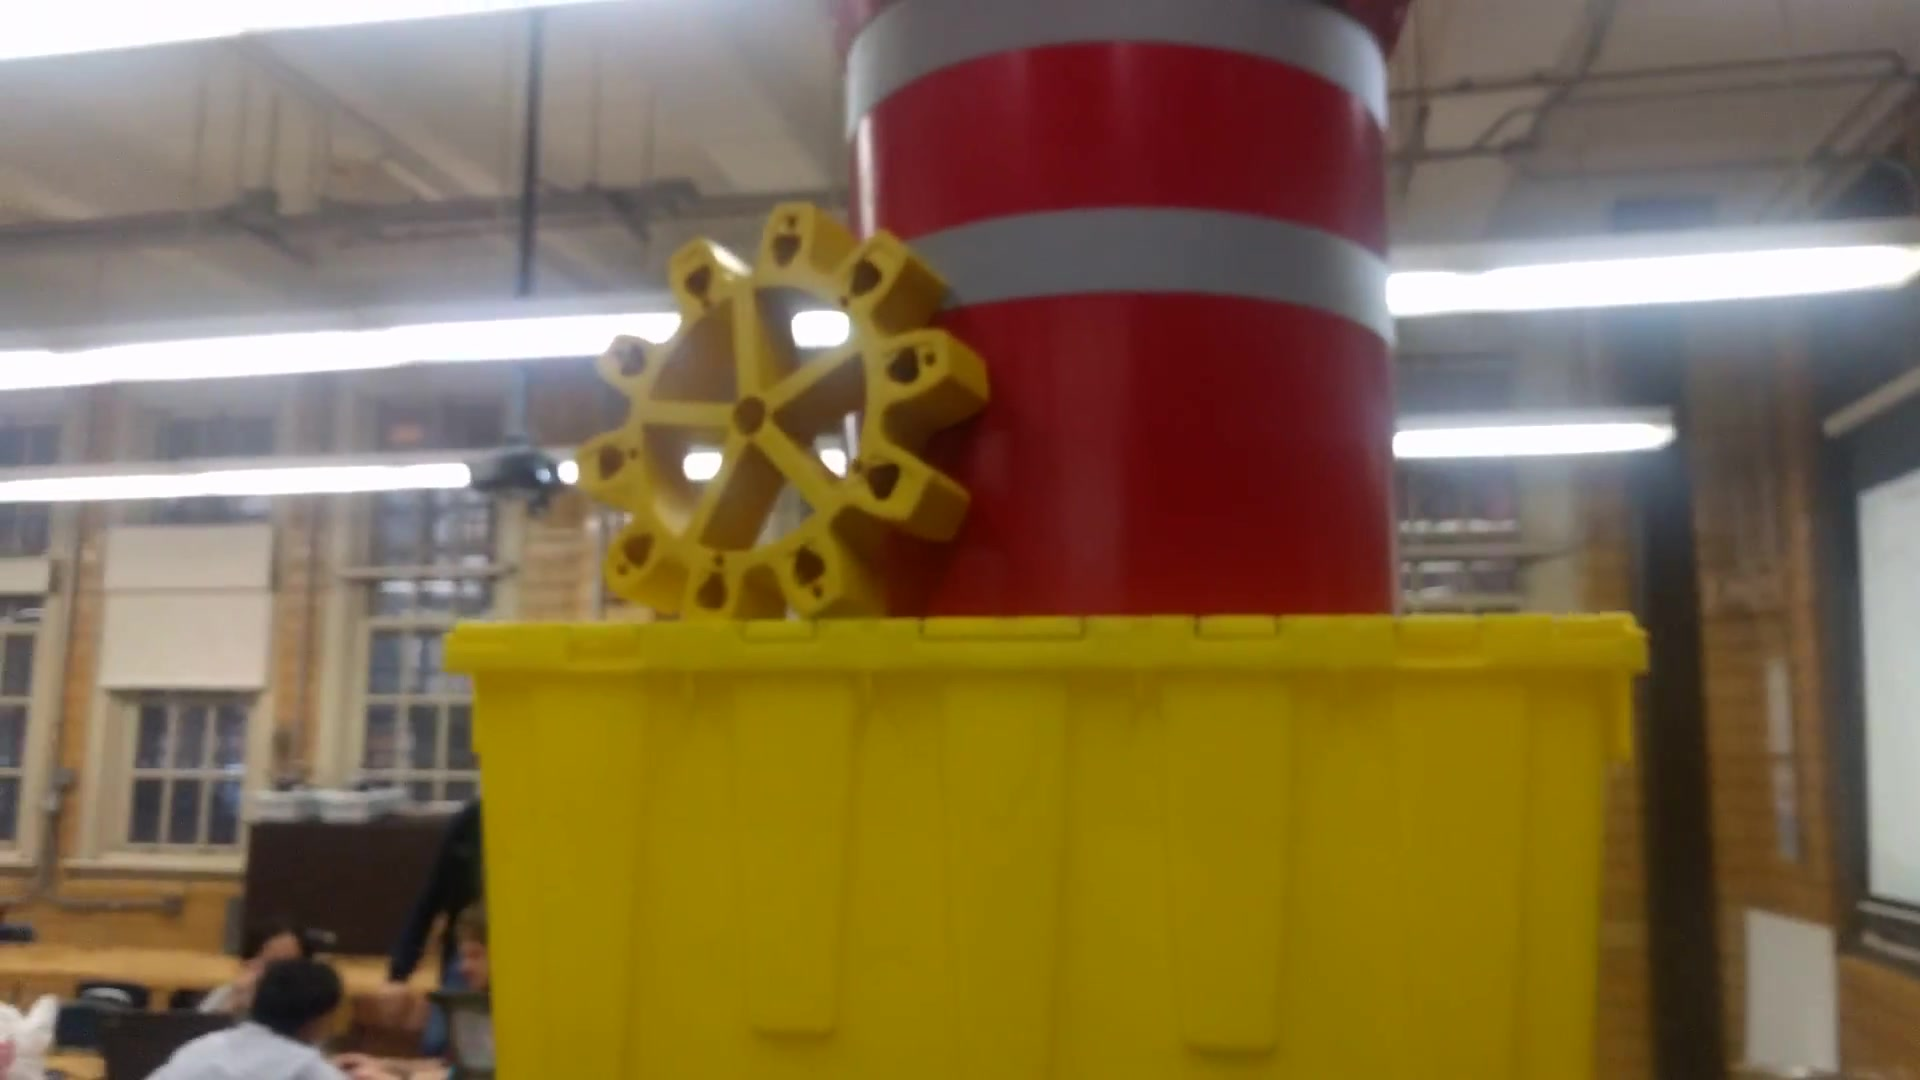gear: (578, 185, 990, 654)
